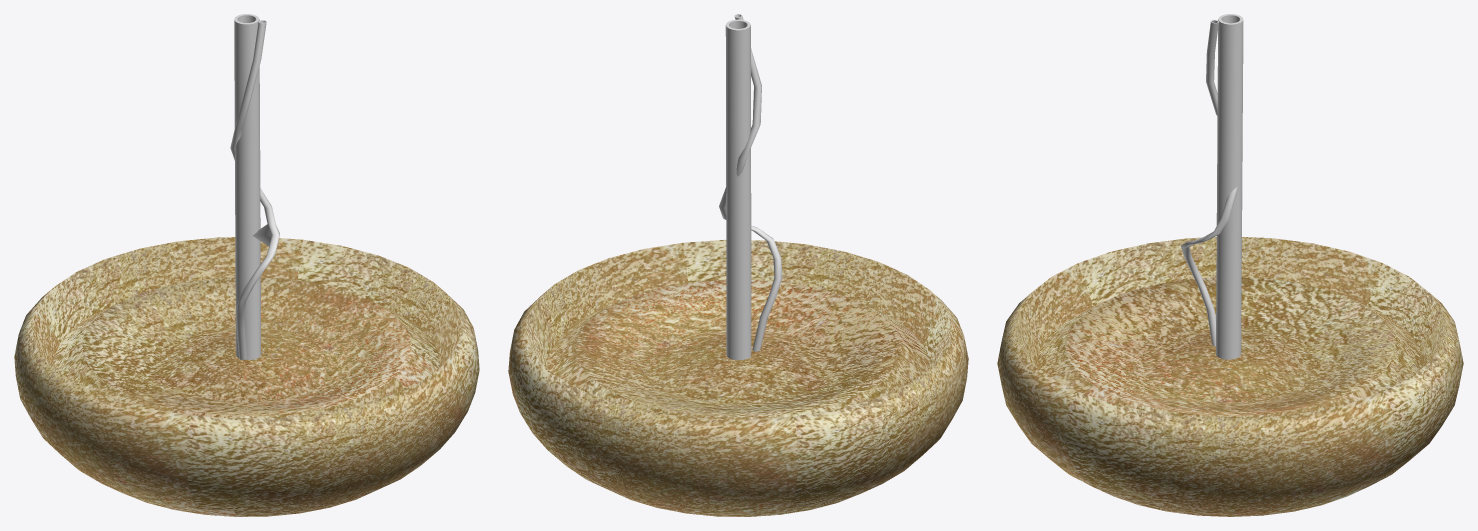
File: Deckenlampe.FBX
The picture shows the model from 3 angles, left to right: view 1: azimuth 30°, elevation 25°; view 2: azimuth 150°, elevation 25°; view 3: azimuth 270°, elevation 25°; orthographic projection.
Parts seen in each view (by area): view 1: Sphere001, Tube001, Tube002; view 2: Sphere001, Tube001, Tube002; view 3: Sphere001, Tube001, Tube002.
Part boxes in pixels (x1,y1,x2,y2): Sphere001: (14, 237, 479, 516); Tube001: (234, 14, 261, 359); Tube002: (230, 20, 279, 359); Sphere001: (508, 239, 968, 516); Tube001: (725, 19, 751, 360); Tube002: (719, 14, 782, 351); Sphere001: (997, 237, 1463, 516); Tube001: (1216, 14, 1243, 359); Tube002: (1181, 20, 1238, 346).
Size of the model in its own units: 20.05 by 22.04 by 20.05.
1 material, 1 textured.
